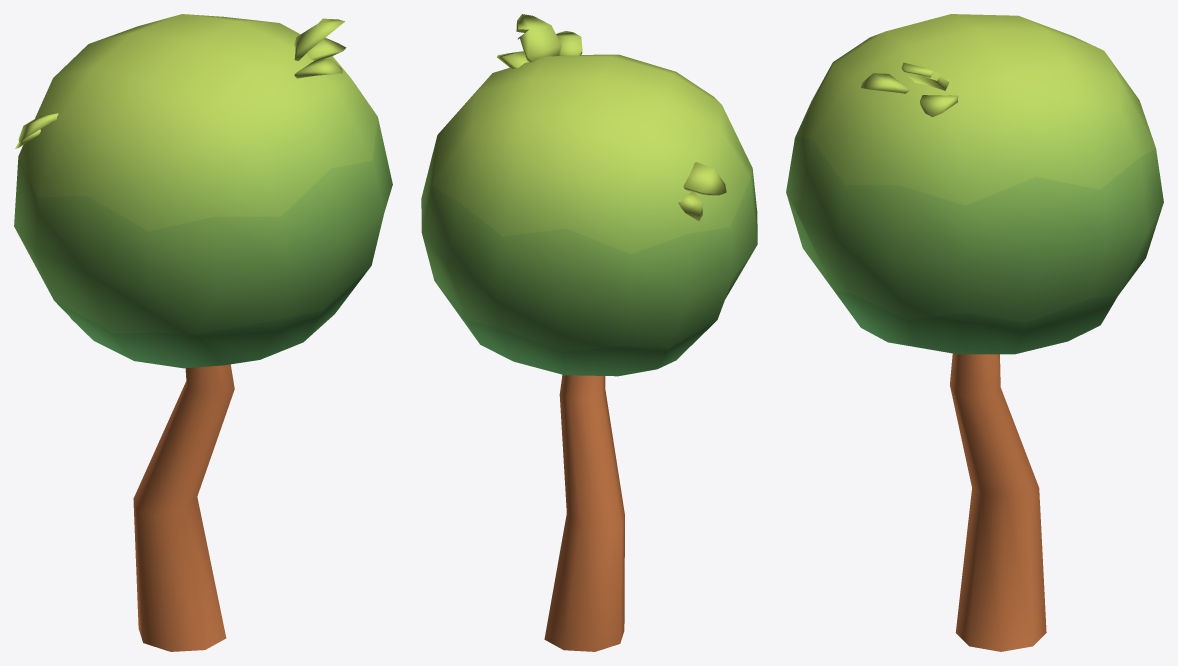
The model's file is tree.glb.
The picture shows the model from 3 angles, left to right: view 1: azimuth 30°, elevation 25°; view 2: azimuth 150°, elevation 25°; view 3: azimuth 270°, elevation 25°; orthographic projection. The views are drawn at different scales.
Parts seen in each view (by area): view 1: tree; view 2: tree; view 3: tree.
Boxes of the visible parts, bbox=[...] form: tree: bbox=[14, 14, 392, 651]; tree: bbox=[421, 14, 757, 651]; tree: bbox=[786, 14, 1163, 651].
Size of the model in its own units: 1.04 by 1.86 by 1.03.
Materials: 1 (1 with a texture image).
